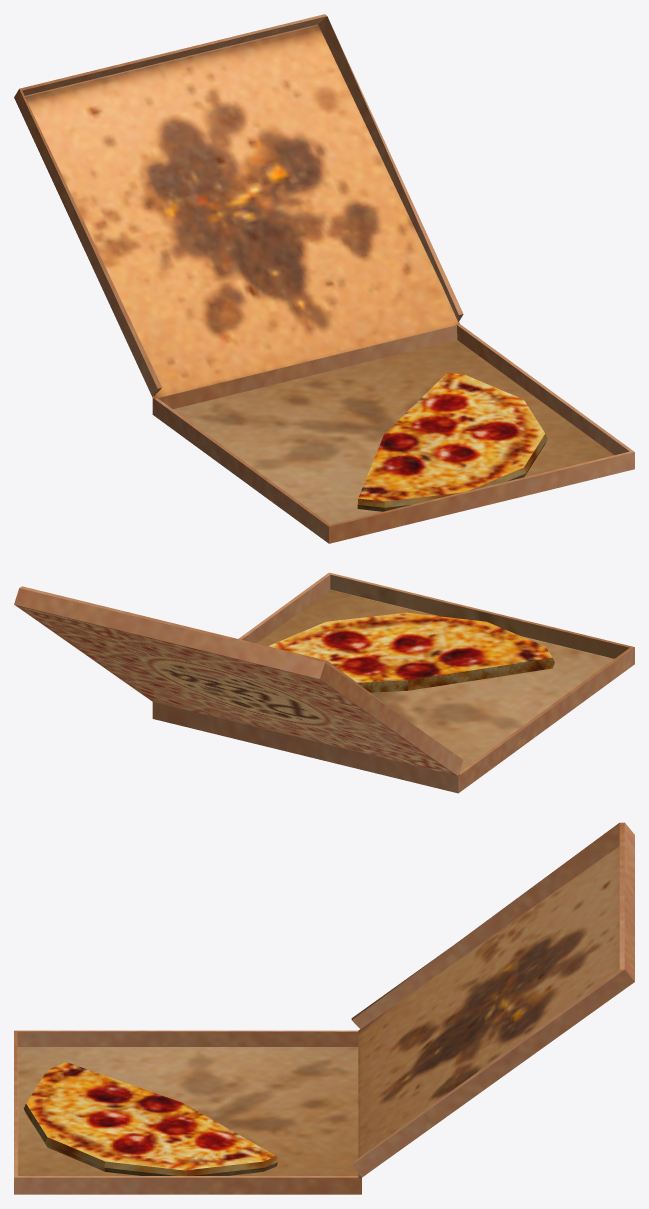
Rendered from pizza_half.glb.
The picture shows the model from 3 angles, top to bottom: view 1: azimuth 30°, elevation 25°; view 2: azimuth 150°, elevation 25°; view 3: azimuth 270°, elevation 25°; orthographic projection.
Parts seen in each view (by area): view 1: pizza half; view 2: pizza half; view 3: pizza half.
Boxes of the visible parts, x1,y1,x2,y2 form: pizza half: [14, 14, 634, 543]; pizza half: [14, 572, 634, 793]; pizza half: [14, 822, 634, 1194].
Size of the model in its own units: 0.5276 by 0.3762 by 0.9413.
Materials: 2 (2 with a texture image).
